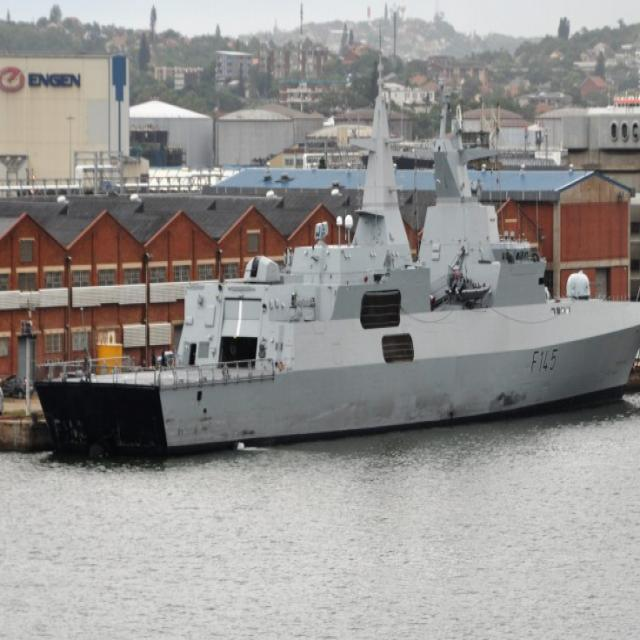Fragata: (31, 81, 640, 464)
